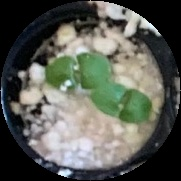Basil: (89, 84, 153, 122), (47, 53, 111, 89)
